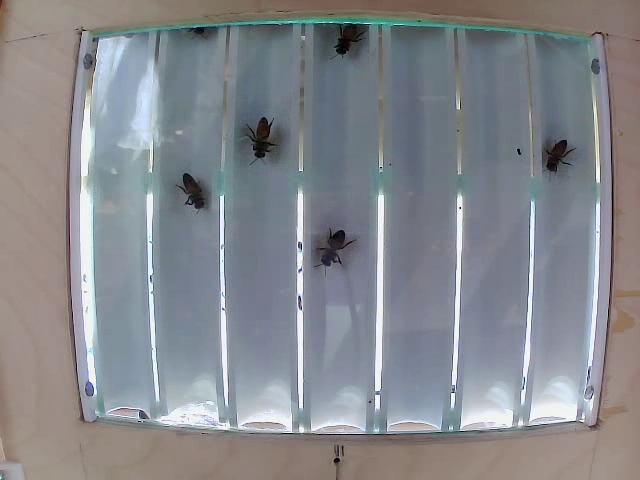bee: (178, 168, 216, 217), (308, 222, 345, 266), (533, 132, 561, 176), (334, 27, 364, 64), (250, 110, 270, 151)
